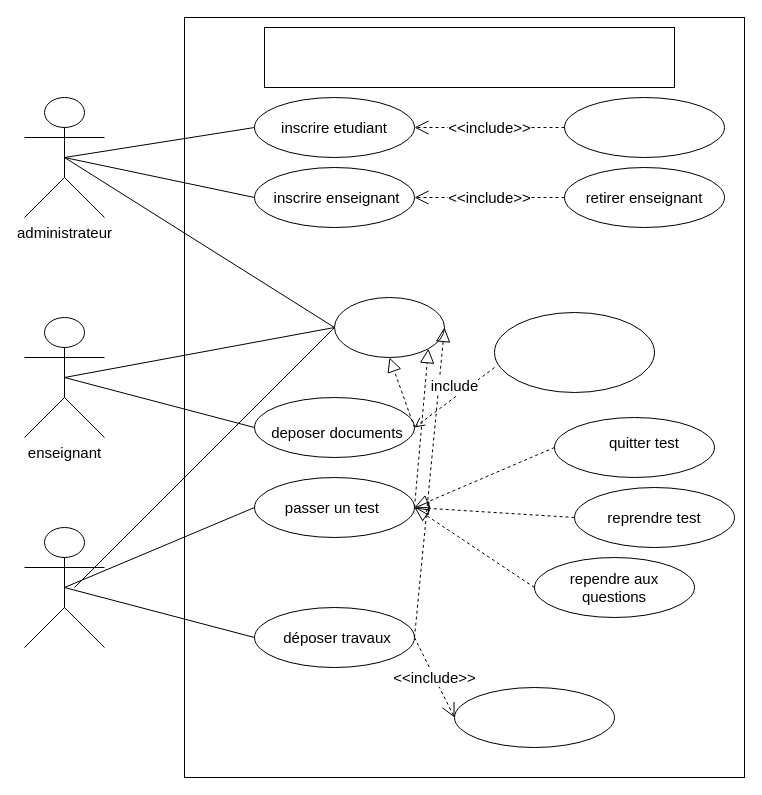
This 762x795 diagram has some shape labels left out. Here are the shapes that lost their labels. From the top down, the centre of each, then its label:
point 469,57: application _gestion_cours_en_ligne
point 644,127: retirer etudiant
point 389,327: s'identifier
point 574,352: supprimer un cours
point 64,587: Etudiant
point 534,717: respecter délai
